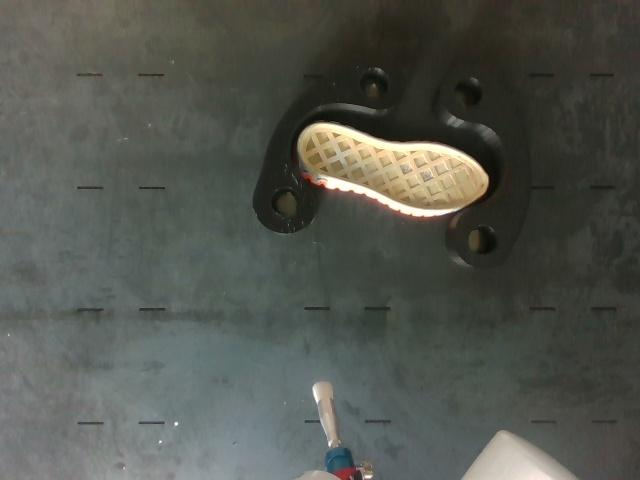shoes: (300, 124, 487, 210)
